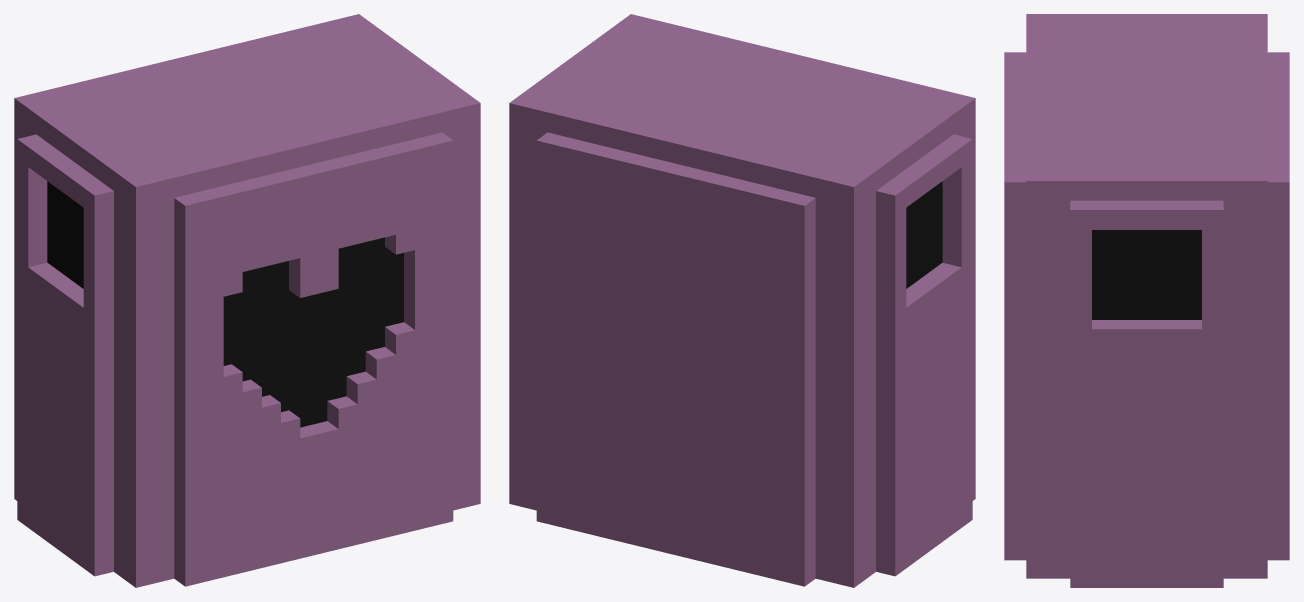
The model's file is GGJ zombie body.obj.
3 renders of one model, left to right at view 1: azimuth 30°, elevation 25°; view 2: azimuth 150°, elevation 25°; view 3: azimuth 270°, elevation 25°, orthographic.
Bounding box in the file's own units: 2 × 2 × 1.3.
Materials: 1 (1 with a texture image).
